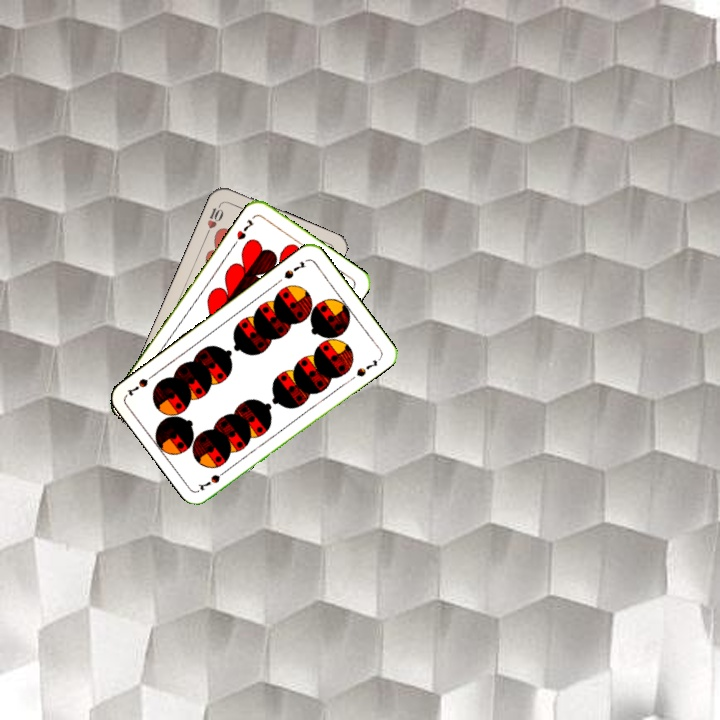H10: (202, 199, 226, 238)
H7: (233, 215, 257, 243)
S7: (194, 465, 231, 493), (280, 258, 309, 282)
